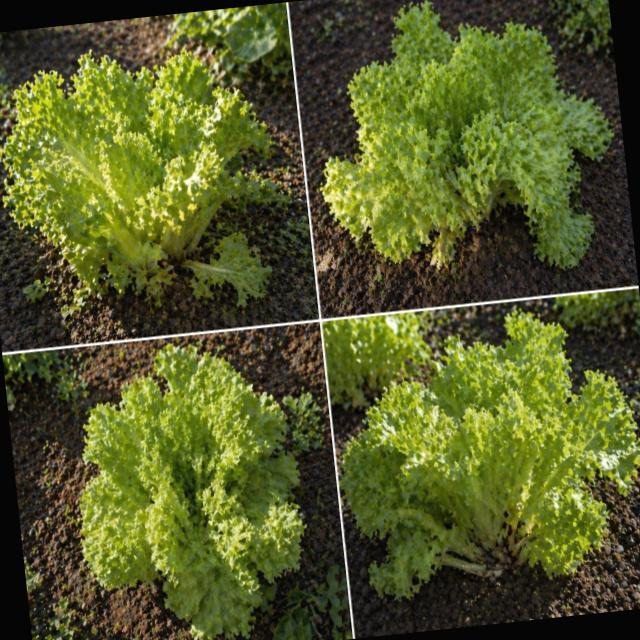lista_para_cosechar: (342, 310, 640, 597), (321, 0, 613, 267), (2, 50, 282, 306), (80, 345, 304, 639)
